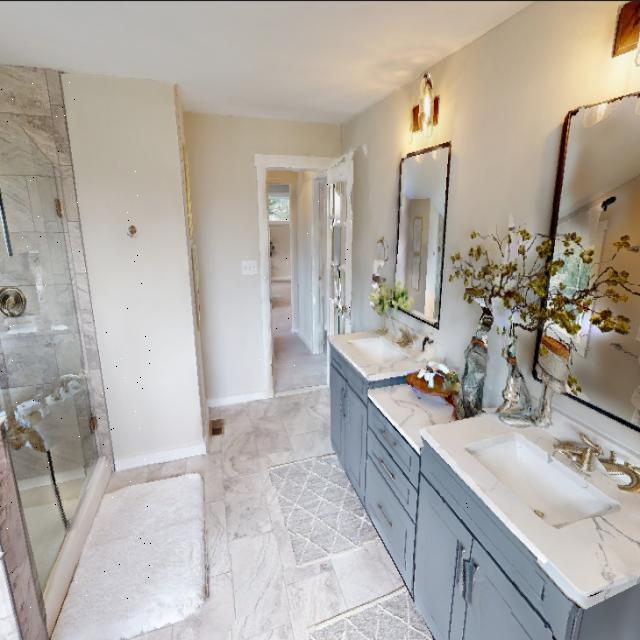door-frame: (258, 151, 354, 395)
shower: (0, 56, 153, 624)
sink: (445, 395, 640, 640), (325, 319, 426, 455)
